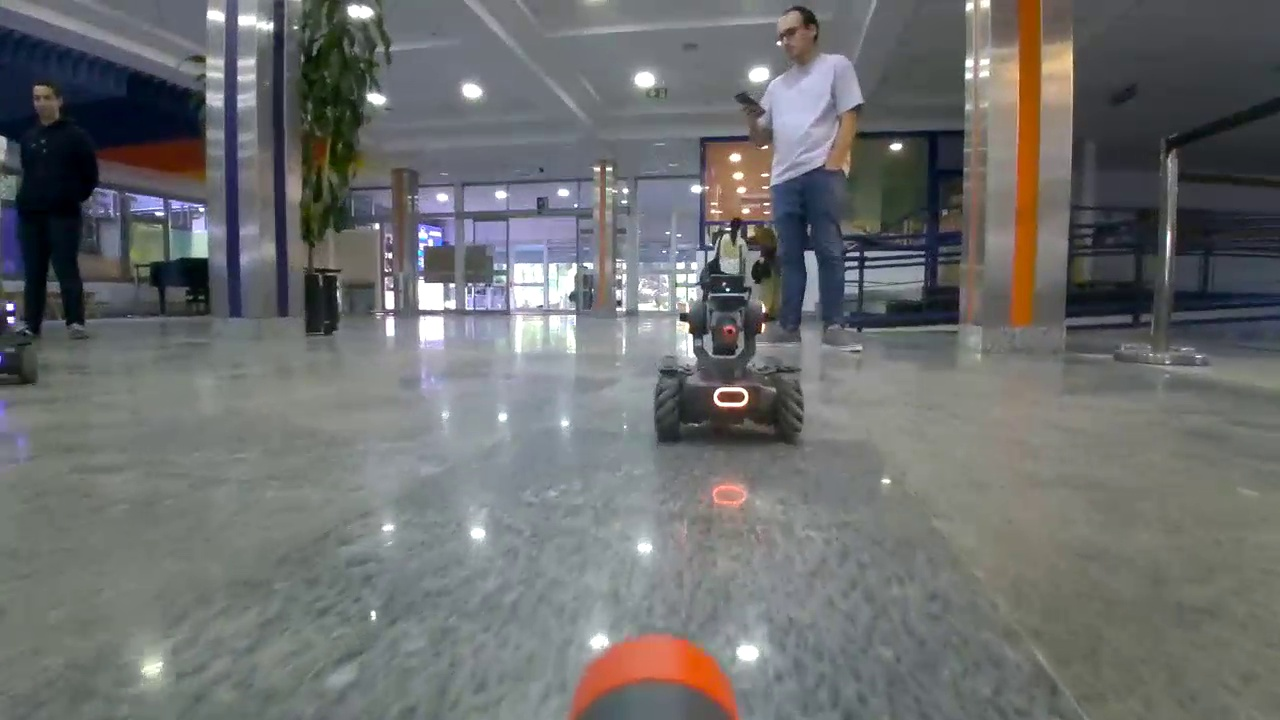robot: (654, 274, 804, 446), (1, 298, 40, 386)
